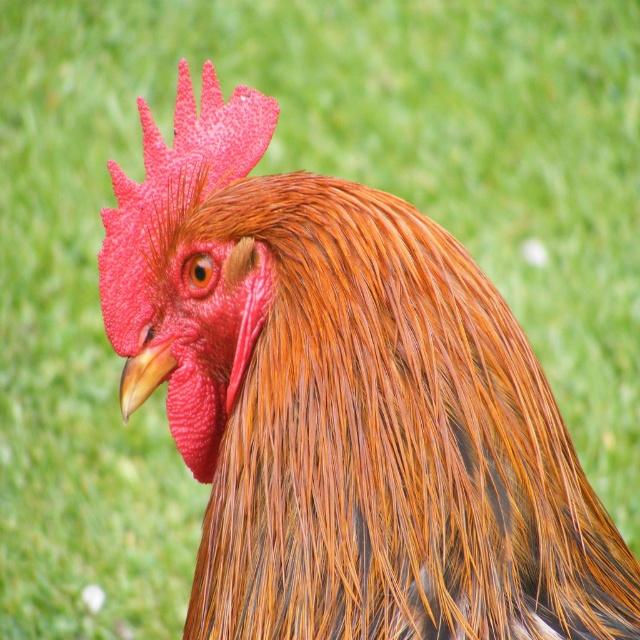Chicken: (97, 58, 640, 640)
